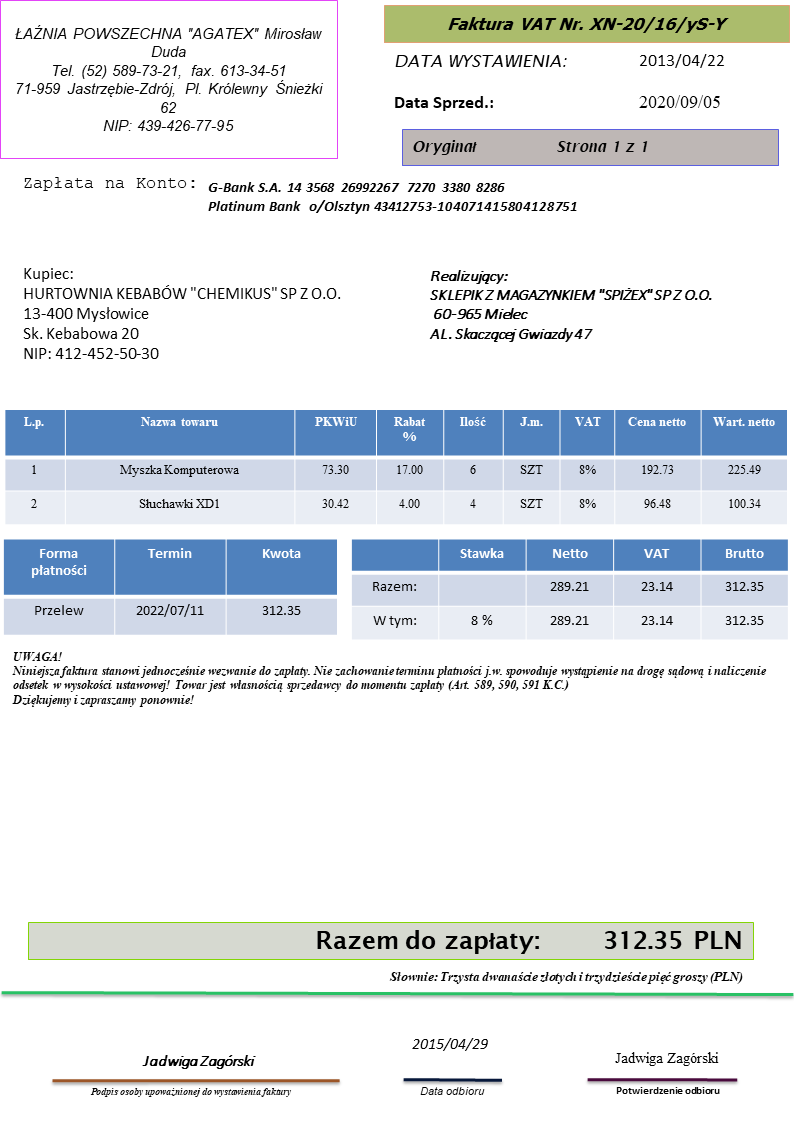Table: (3, 407, 789, 527), (350, 538, 789, 638), (2, 538, 338, 636)
TextBox: (9, 647, 770, 711), (12, 23, 327, 134), (20, 262, 345, 363), (426, 266, 715, 346), (206, 177, 579, 215), (312, 925, 746, 956), (387, 966, 744, 987), (444, 9, 729, 35), (410, 137, 651, 160), (392, 49, 567, 71), (88, 1083, 295, 1101), (20, 173, 196, 194), (139, 1050, 256, 1071), (612, 1048, 722, 1069), (637, 49, 727, 72), (613, 1081, 724, 1099), (391, 94, 496, 112), (636, 92, 723, 113), (409, 1034, 489, 1054), (417, 1083, 486, 1100)
